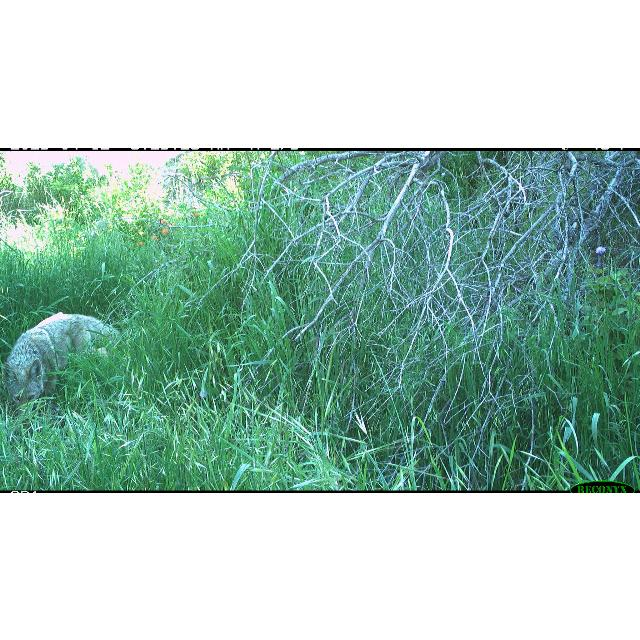animals: (6, 310, 120, 412)
